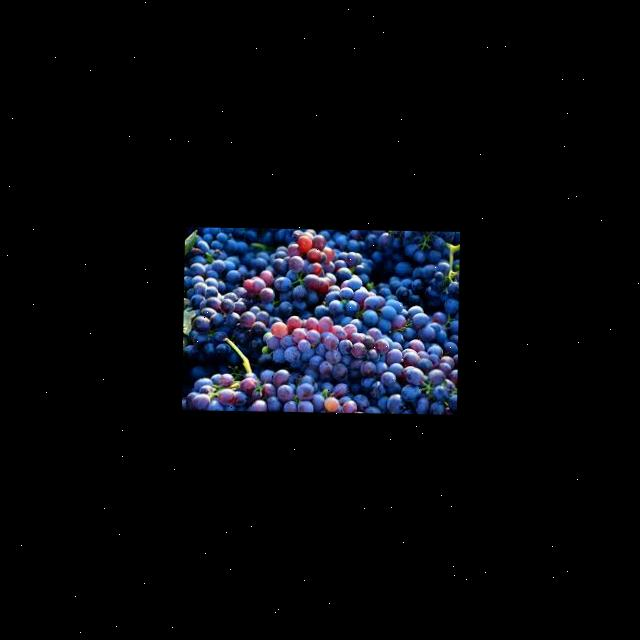grape: (181, 226, 458, 413)
